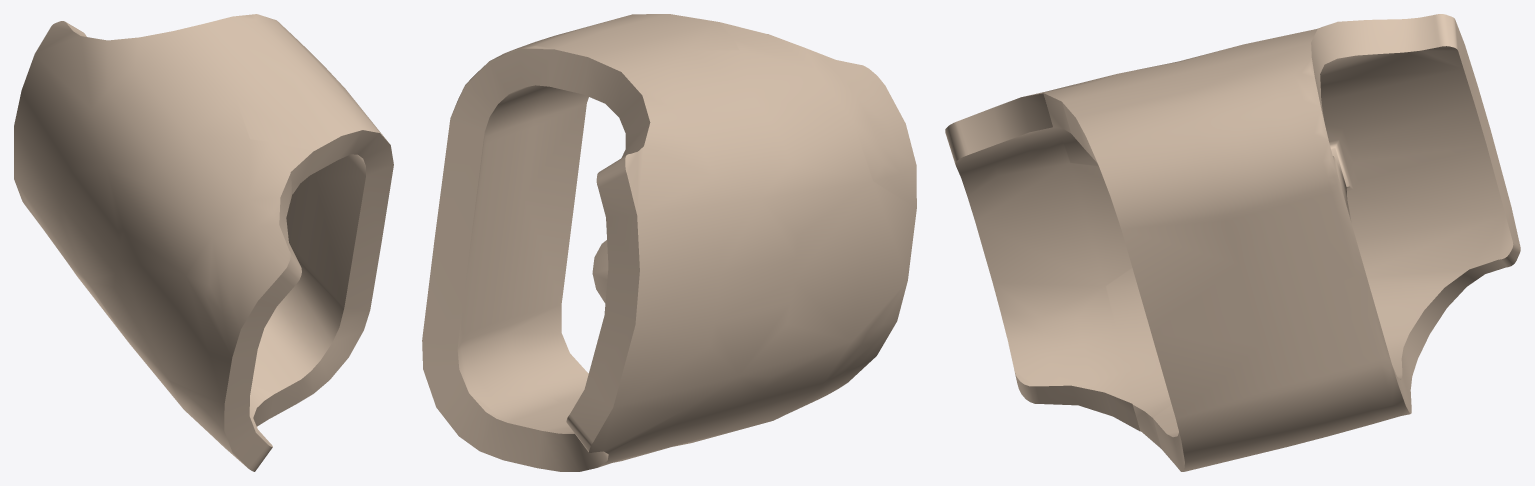
File: r_hand_I_L_0.obj
3 views of the same model, side by side, from view 1: azimuth 30°, elevation 25°; view 2: azimuth 150°, elevation 25°; view 3: azimuth 270°, elevation 25° (orthographic). The views are drawn at different scales.
Bounding box in the file's own units: 17.49 × 24.87 × 31.87.
